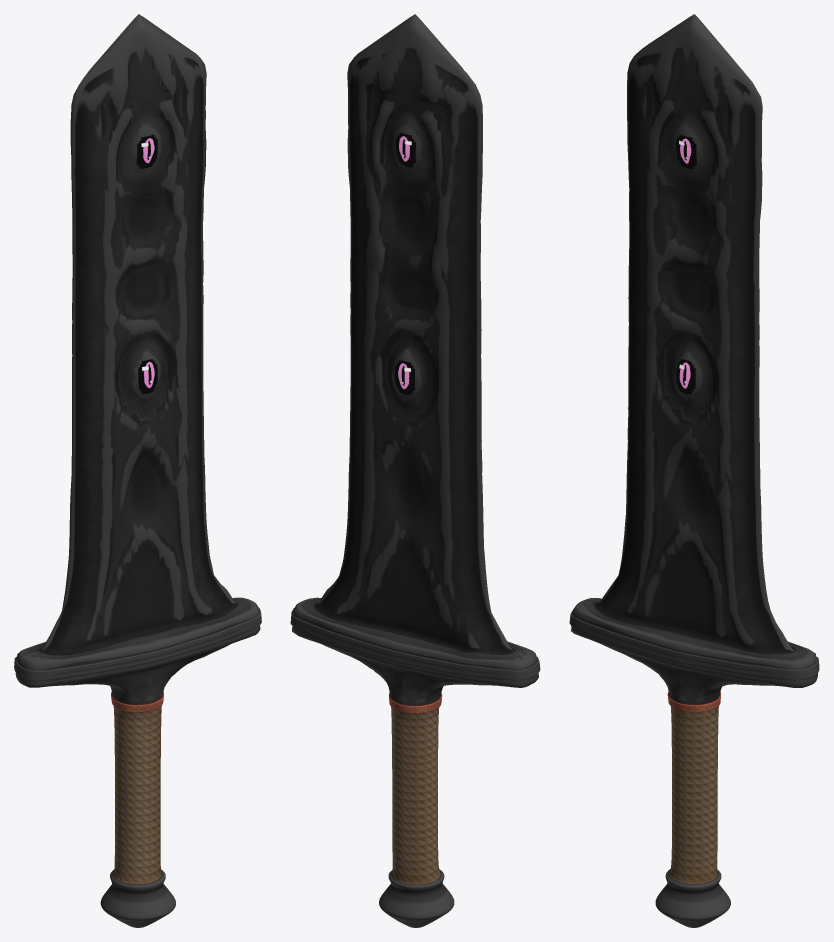
Rendered from Eclipsa.glb.
The picture shows the model from 3 angles, left to right: view 1: azimuth 30°, elevation 25°; view 2: azimuth 150°, elevation 25°; view 3: azimuth 330°, elevation 25°; orthographic projection.
Visible parts, largest first — view 1: Eclipsa, UpperFrontEye, LowerFrontEye; view 2: Eclipsa, LowerBackEye, UpperBackEye; view 3: Eclipsa, UpperFrontEye, LowerFrontEye.
Part boxes in pixels (box(x1,y1,x2,y2)): Eclipsa: box(14, 14, 261, 927); UpperFrontEye: box(136, 134, 157, 168); LowerFrontEye: box(138, 359, 157, 393); Eclipsa: box(290, 14, 540, 927); LowerBackEye: box(395, 360, 415, 394); UpperBackEye: box(395, 133, 415, 167); Eclipsa: box(569, 14, 819, 927); UpperFrontEye: box(676, 134, 696, 169); LowerFrontEye: box(676, 359, 695, 393).
Size of the model in its own units: 0.5501 by 1.99 by 0.151.
2 materials, 2 textured.
